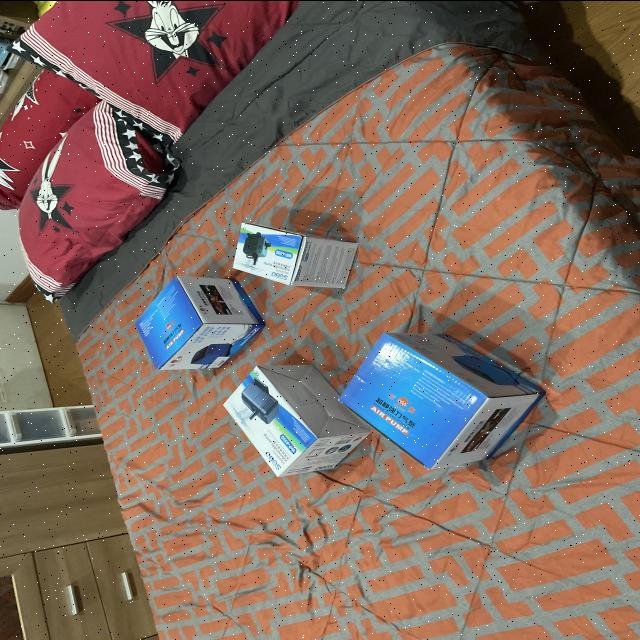SOBO_WP_4200: (214, 356, 358, 481), (230, 207, 376, 290)
YAMANO_LPP_20: (340, 308, 561, 476), (125, 271, 264, 378)
